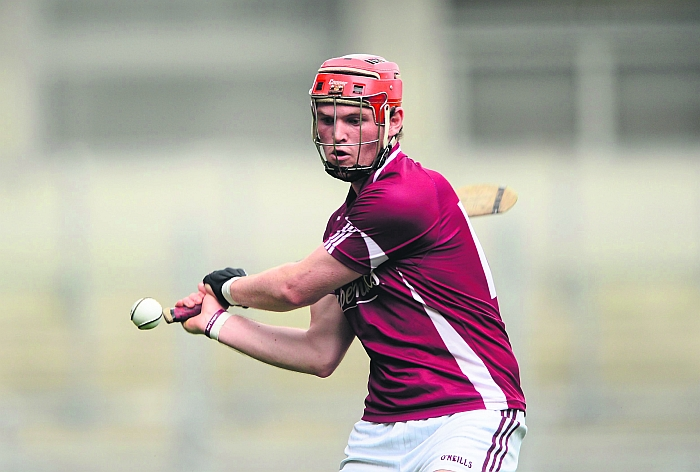ball: (129, 296, 163, 330)
player: (270, 40, 542, 469)
